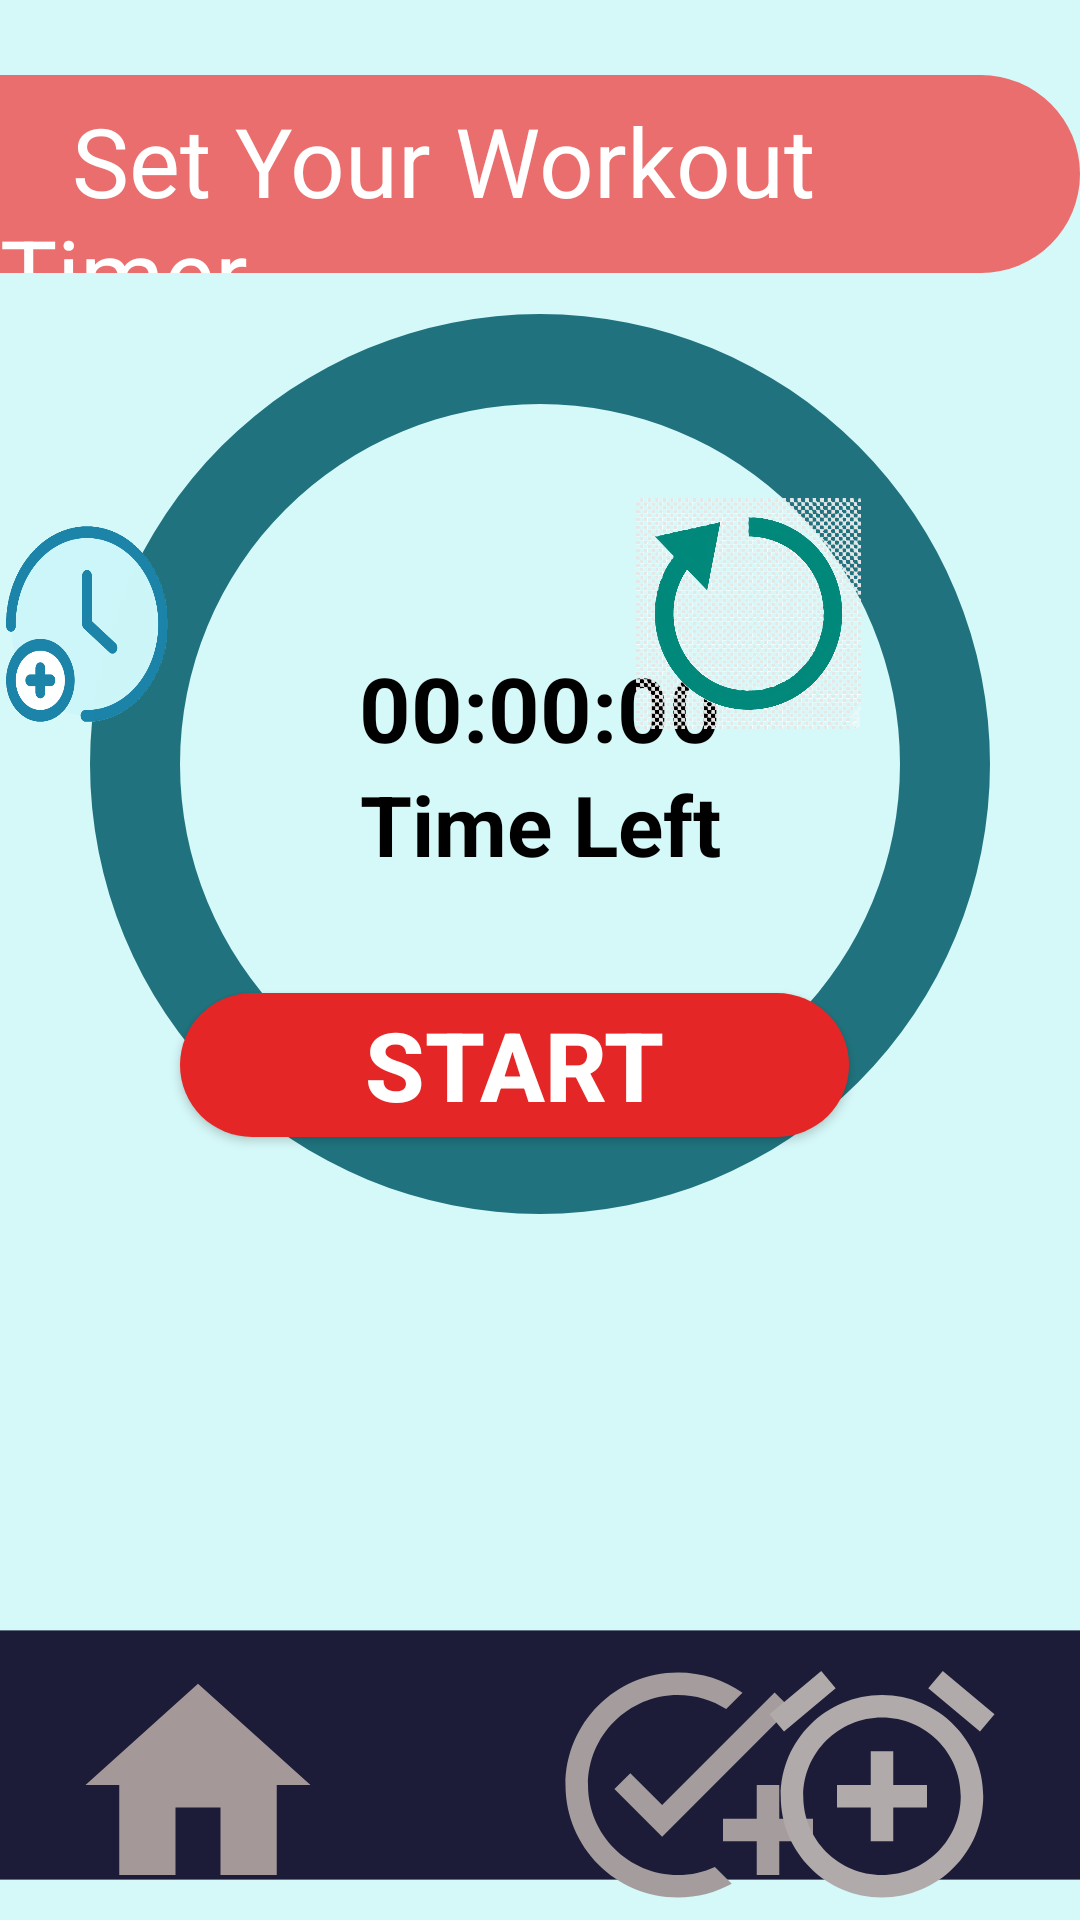

Icons on this 1080px x 1920px Android screen, each with the point to tap as (x,y):
Add Timer: (87,624)
Reset Timer: (748,613)
